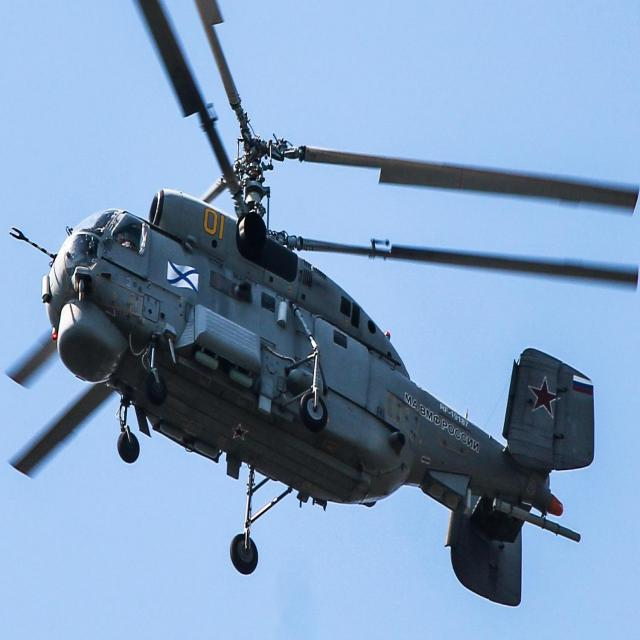MIL_HELO: (6, 0, 639, 610)
